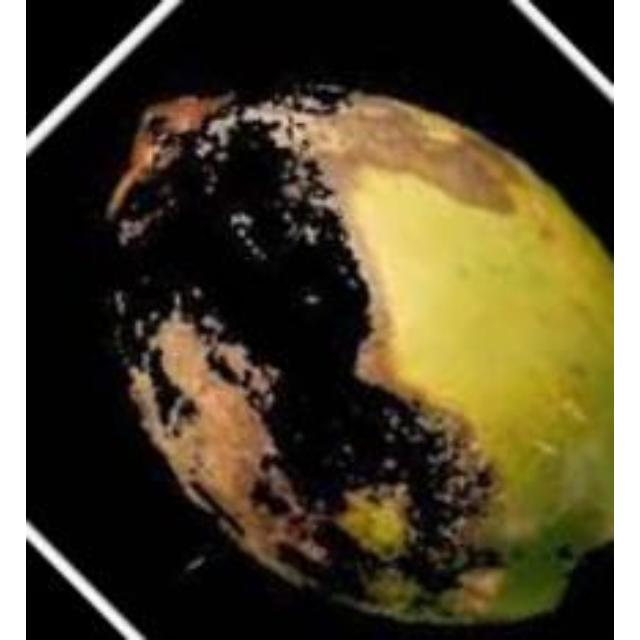damaged: (72, 79, 611, 637)
